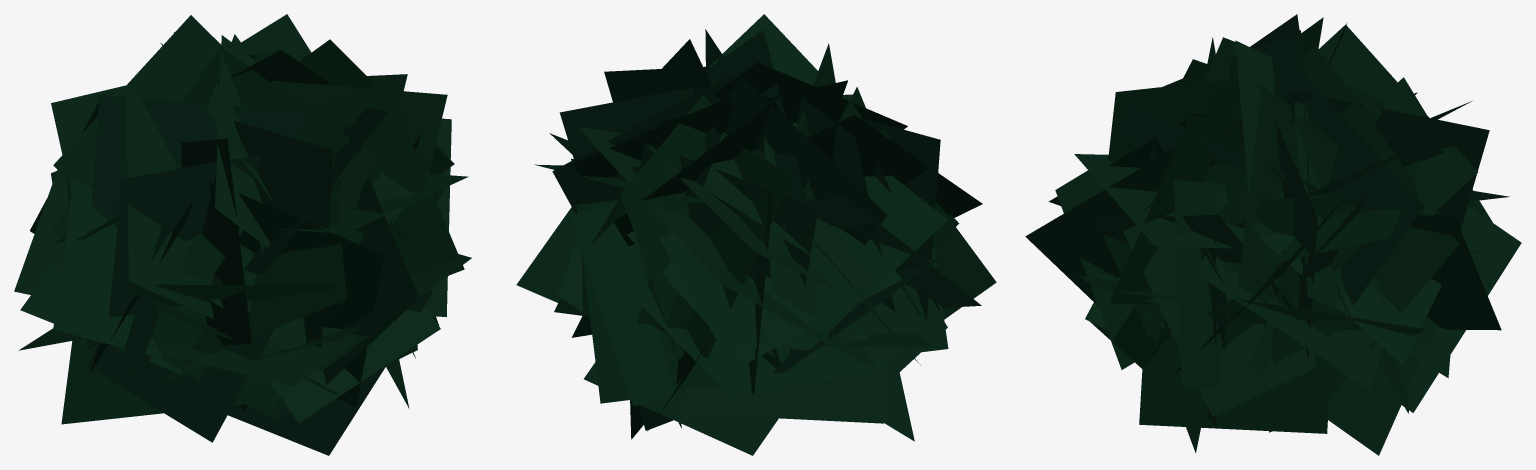
File: ST_Bush.fbx
The picture shows the model from 3 angles, left to right: view 1: azimuth 30°, elevation 25°; view 2: azimuth 150°, elevation 25°; view 3: azimuth 270°, elevation 25°; orthographic projection. The views are drawn at different scales.
Parts seen in each view (by area): view 1: ST_Bush; view 2: ST_Bush; view 3: ST_Bush.
Part boxes in pixels (left/top/right/bottom): ST_Bush: left=14, top=14, right=471, bottom=455; ST_Bush: left=516, top=14, right=996, bottom=455; ST_Bush: left=1025, top=14, right=1521, bottom=455.
Size of the model in its own units: 26.71 by 24.29 by 27.22.
